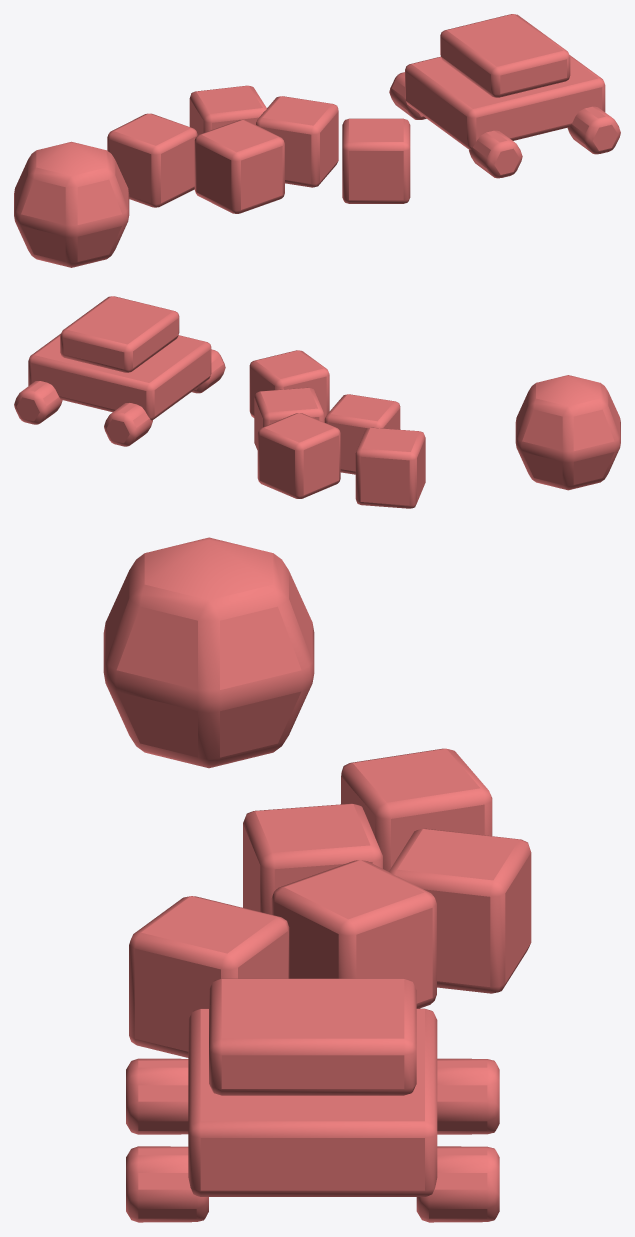
File: DoChoi_Lon.glb
The picture shows the model from 3 angles, top to bottom: view 1: azimuth 30°, elevation 25°; view 2: azimuth 150°, elevation 25°; view 3: azimuth 270°, elevation 25°; orthographic projection. The views are drawn at different scales.
Parts seen in each view (by area): view 1: DoChoi_Lon; view 2: DoChoi_Lon; view 3: DoChoi_Lon.
Boxes of the visible parts, x1,y1,x2,y2 form: DoChoi_Lon: (14,14,620,267); DoChoi_Lon: (14,296,620,508); DoChoi_Lon: (103,537,531,1222).
Bounding box in the file's own units: 0.5967 × 0.12 × 0.2059.
